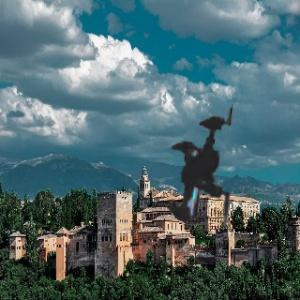drone: (83, 62, 300, 280)
